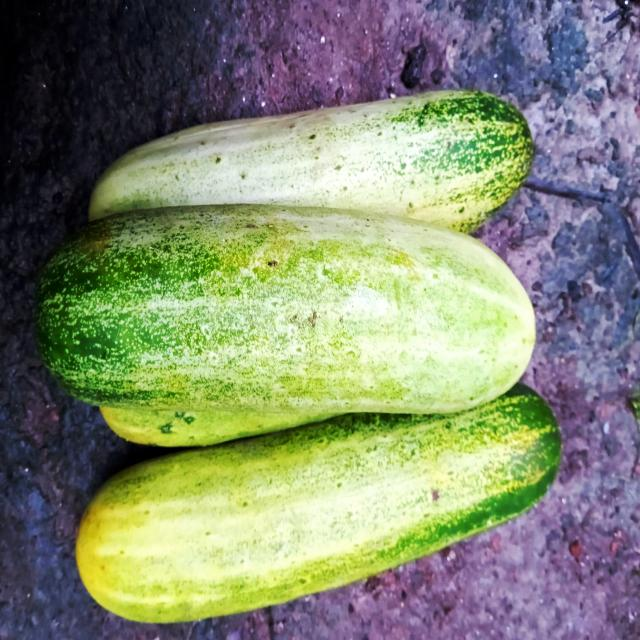Fresh-Cucumber: (69, 379, 563, 628), (31, 201, 537, 426), (82, 81, 537, 253)
